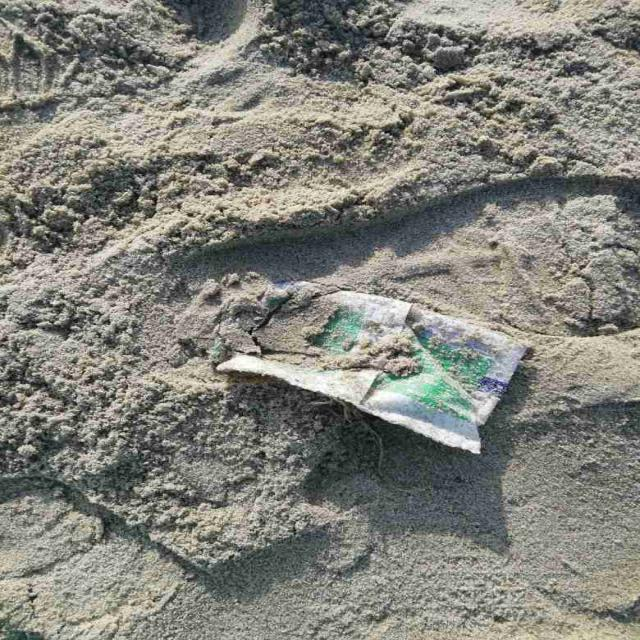giay_goi: (217, 291, 527, 454)
